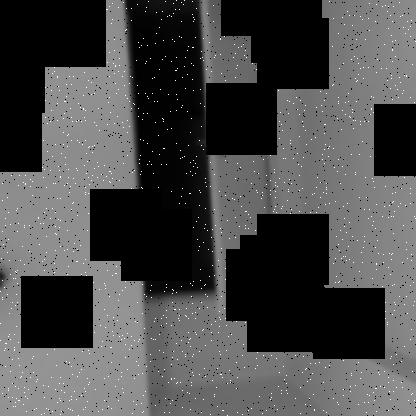Porte: (121, 1, 287, 321)
